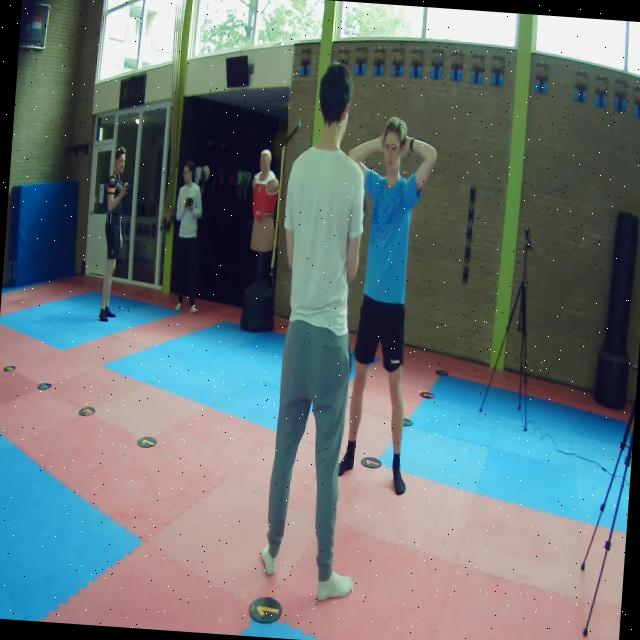paddle: (362, 189, 366, 234)
